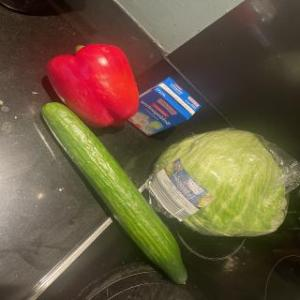bell_pepper: (40, 38, 140, 122)
cabbage: (150, 118, 294, 246)
cucumber: (35, 94, 200, 288)
